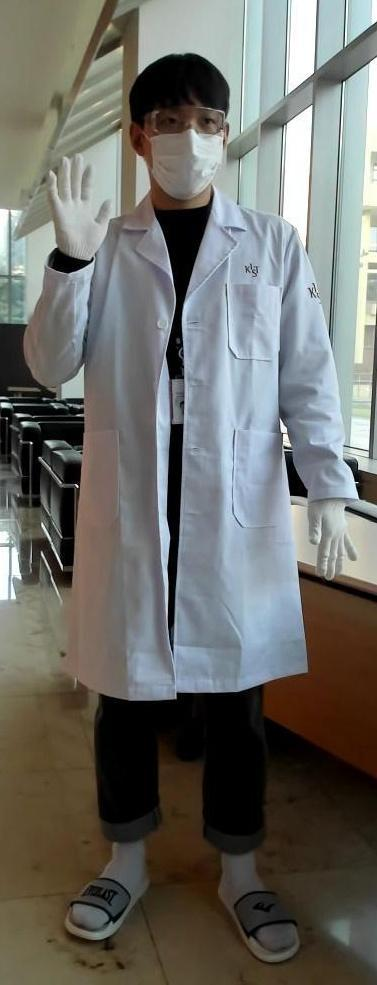lab_coat: (61, 260, 302, 693)
